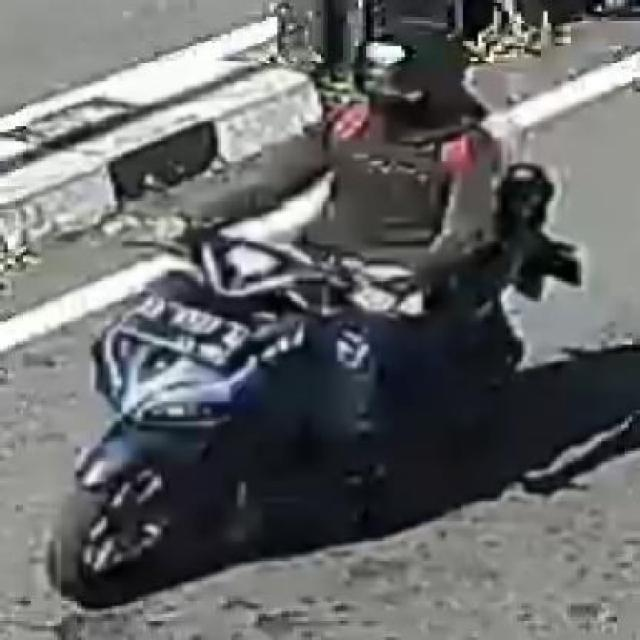helmet: (329, 20, 506, 155)
motorcycle: (50, 3, 552, 613)
